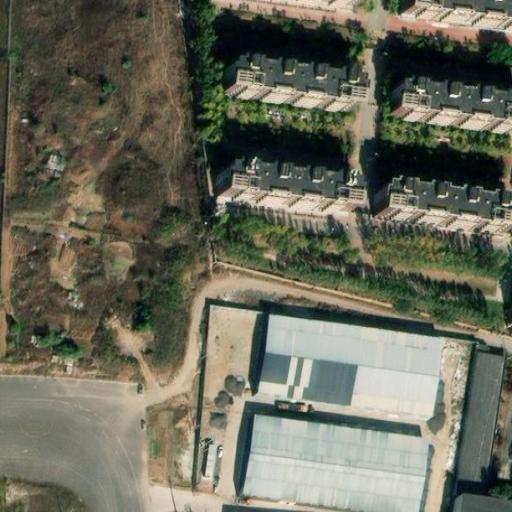building: (258, 315, 443, 416), (246, 415, 426, 512), (457, 351, 503, 495), (222, 163, 356, 212), (374, 184, 508, 232), (221, 63, 355, 111), (385, 85, 512, 132)
